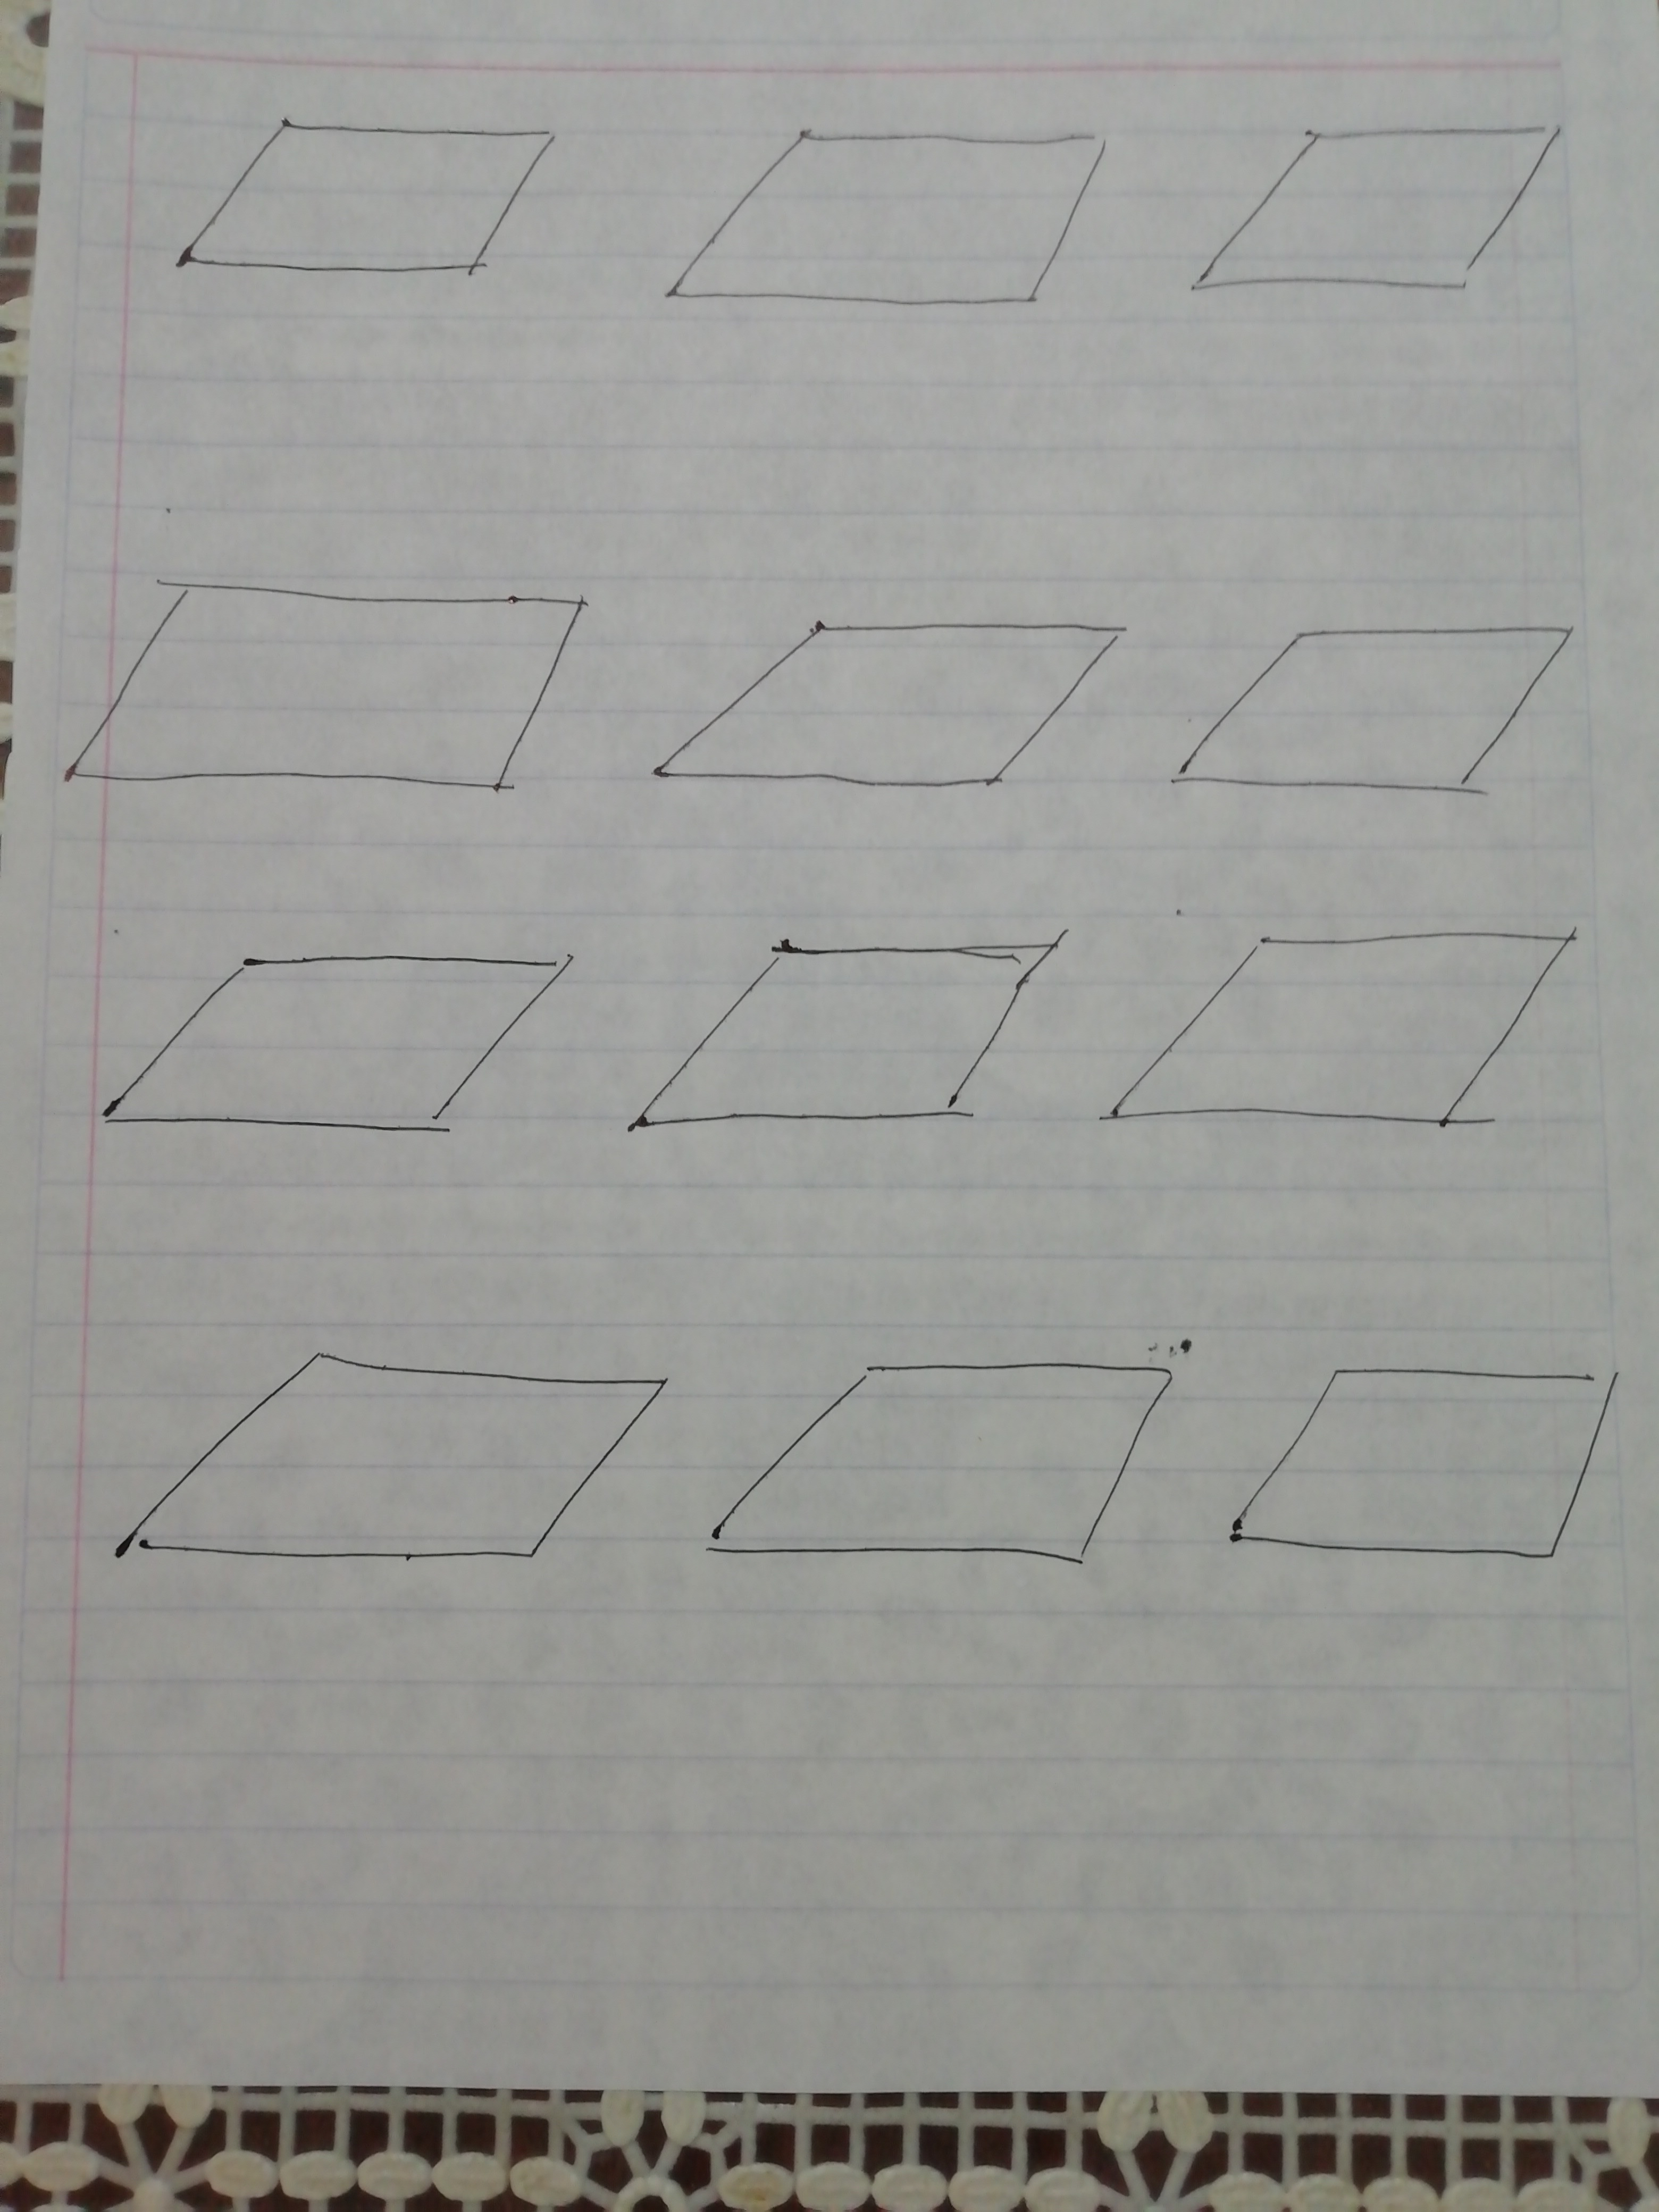scan: (47, 1308, 687, 1627), (26, 531, 612, 843), (40, 911, 594, 1191), (1093, 897, 1622, 1172), (605, 904, 1091, 1191), (701, 1346, 1188, 1616), (636, 96, 1147, 354), (633, 571, 1147, 826), (122, 75, 587, 326), (1208, 1343, 1643, 1606), (1157, 596, 1600, 833), (1168, 96, 1586, 340)
